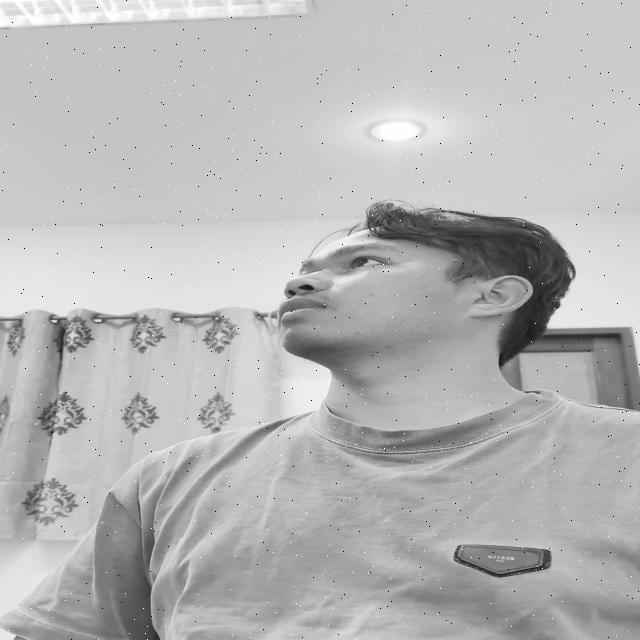ear: (470, 276, 532, 317)
